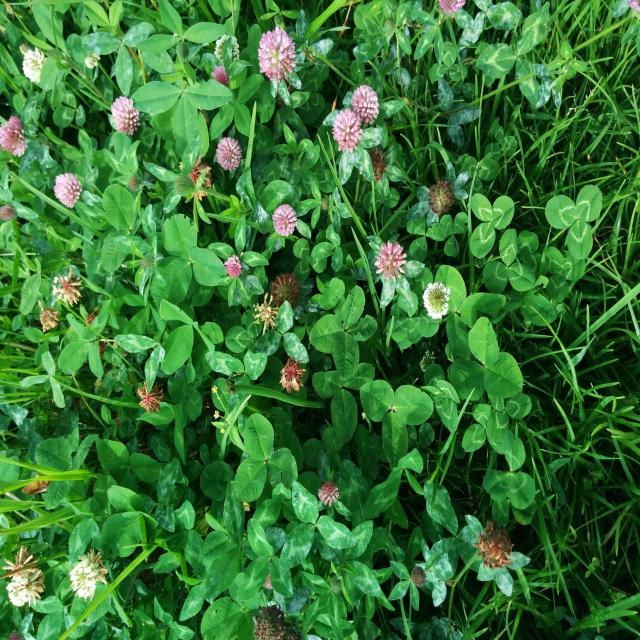Four Leaf Clover: (309, 285, 377, 379)
